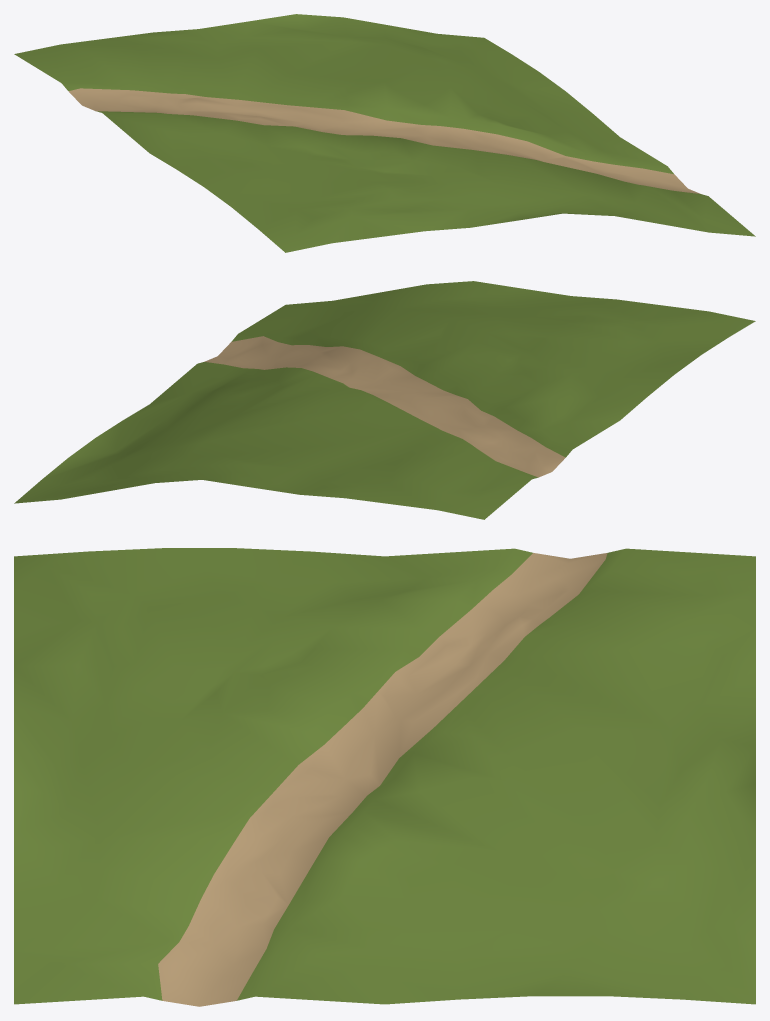
File: rpgpp_ag_terrain_path_10_20x20m_slope_1-3m.fbx
3 views of the same model, one above another, from view 1: azimuth 30°, elevation 25°; view 2: azimuth 150°, elevation 25°; view 3: azimuth 270°, elevation 25° (orthographic). The views are drawn at different scales.
Visible parts, largest first — view 1: rpgpp_ag_terrain_path_10_20x20m_slope_1-3m; view 2: rpgpp_ag_terrain_path_10_20x20m_slope_1-3m; view 3: rpgpp_ag_terrain_path_10_20x20m_slope_1-3m.
Part boxes in pixels (x1,y1,x2,y2): rpgpp_ag_terrain_path_10_20x20m_slope_1-3m: (14, 14, 755, 252); rpgpp_ag_terrain_path_10_20x20m_slope_1-3m: (14, 281, 755, 519); rpgpp_ag_terrain_path_10_20x20m_slope_1-3m: (14, 548, 755, 1006).
Size of the model in its own units: 20 by 4.32 by 20.
